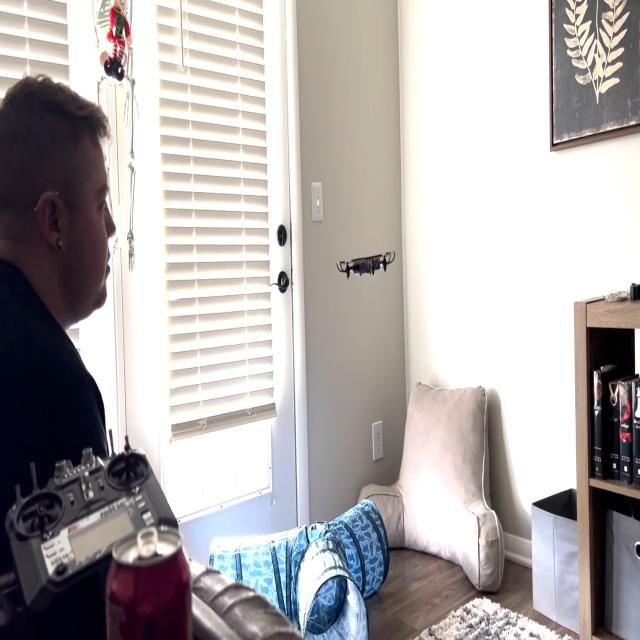drone: (334, 237, 402, 288)
